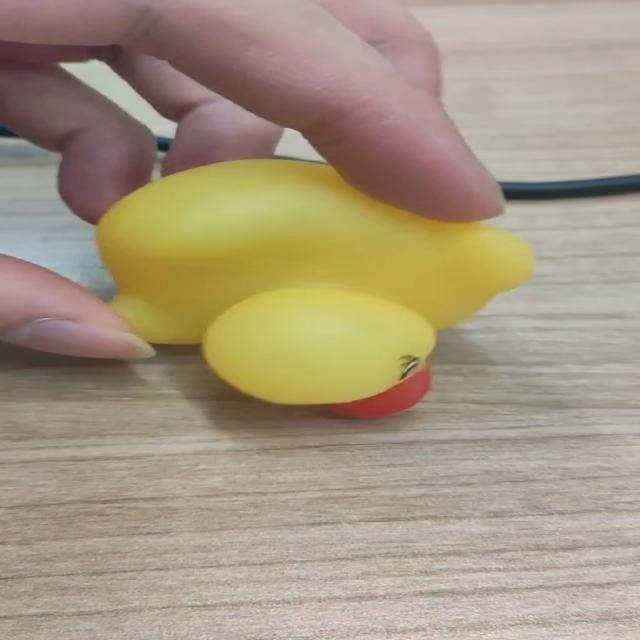rubber-duck: (96, 158, 532, 415)
